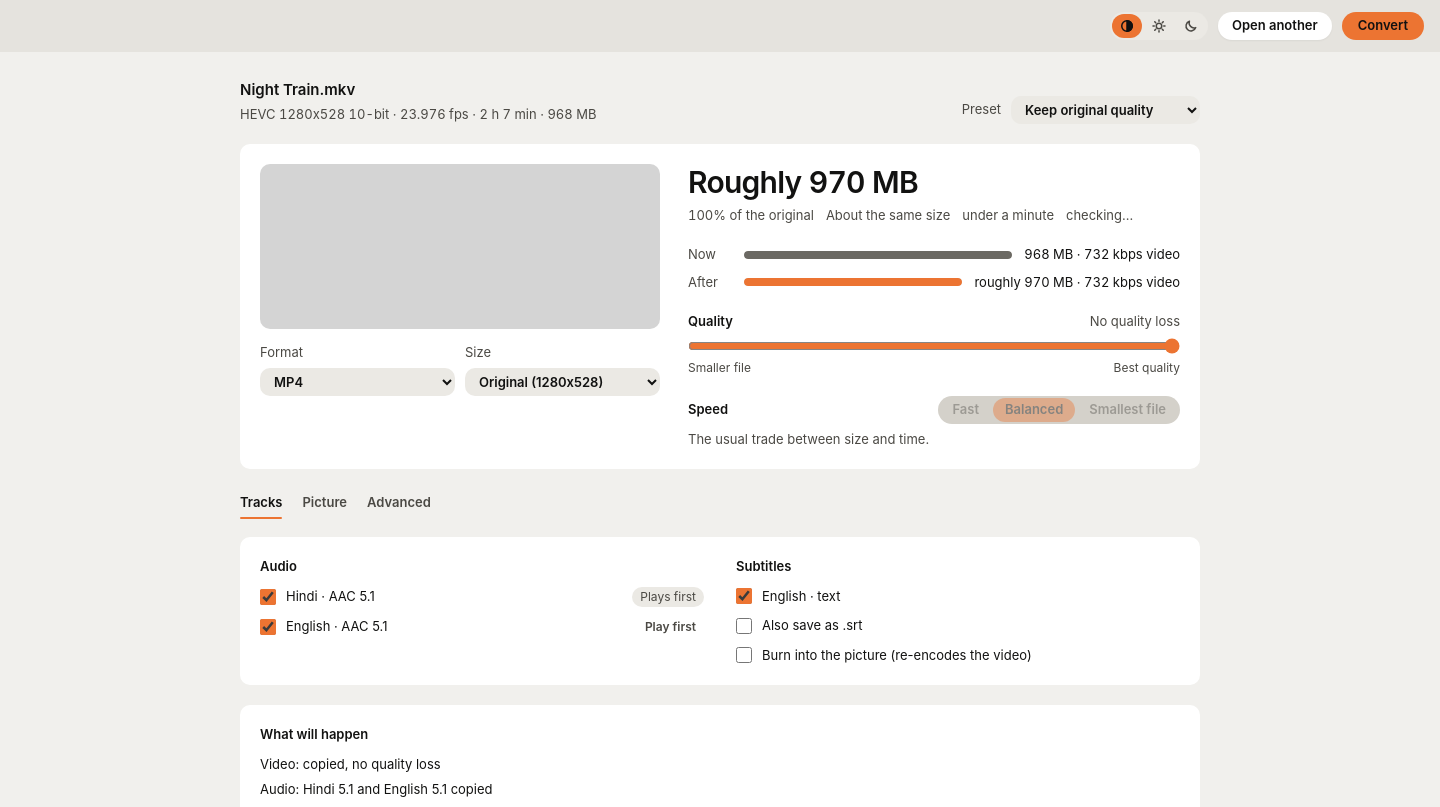
Test case: the result card › compares now and after on one scale, each with its size and video bitrate
Select "480p (854x352)" in the dropdown labelled "Size" at (562, 382), box [465,368,660,396]
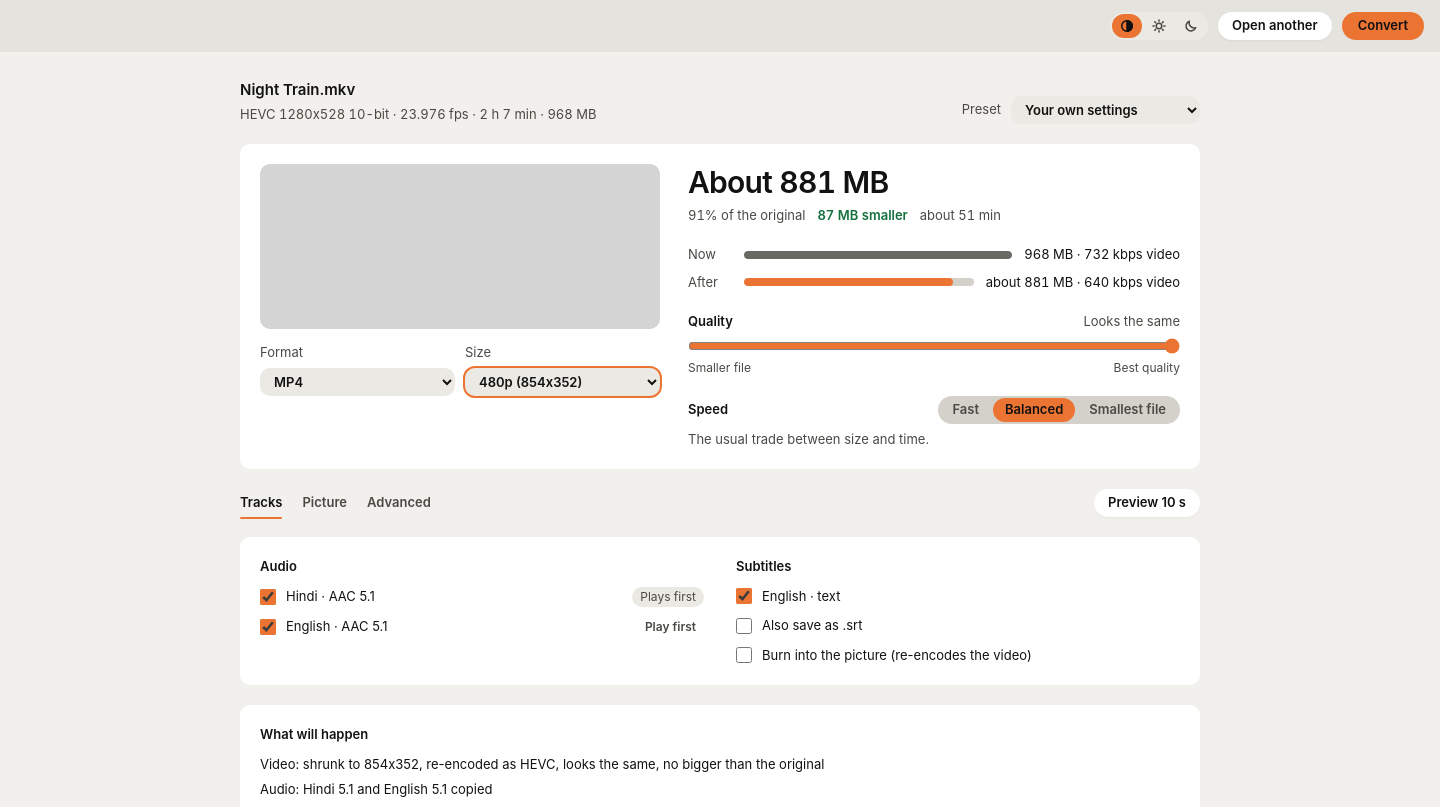
Expected: the text "Now" is shown, [688,246,716,262]
Expected: the text "about 881 MB · 640 kbps video" is shown, [986,273,1180,292]
